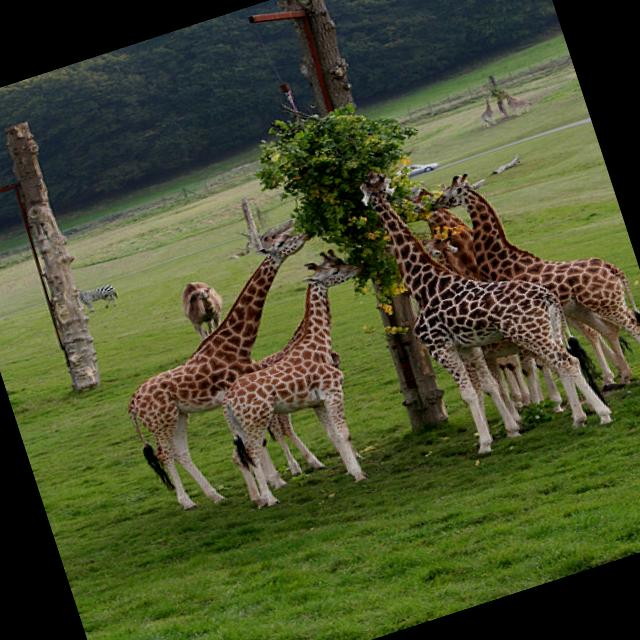Vehicle: (396, 157, 441, 181)
